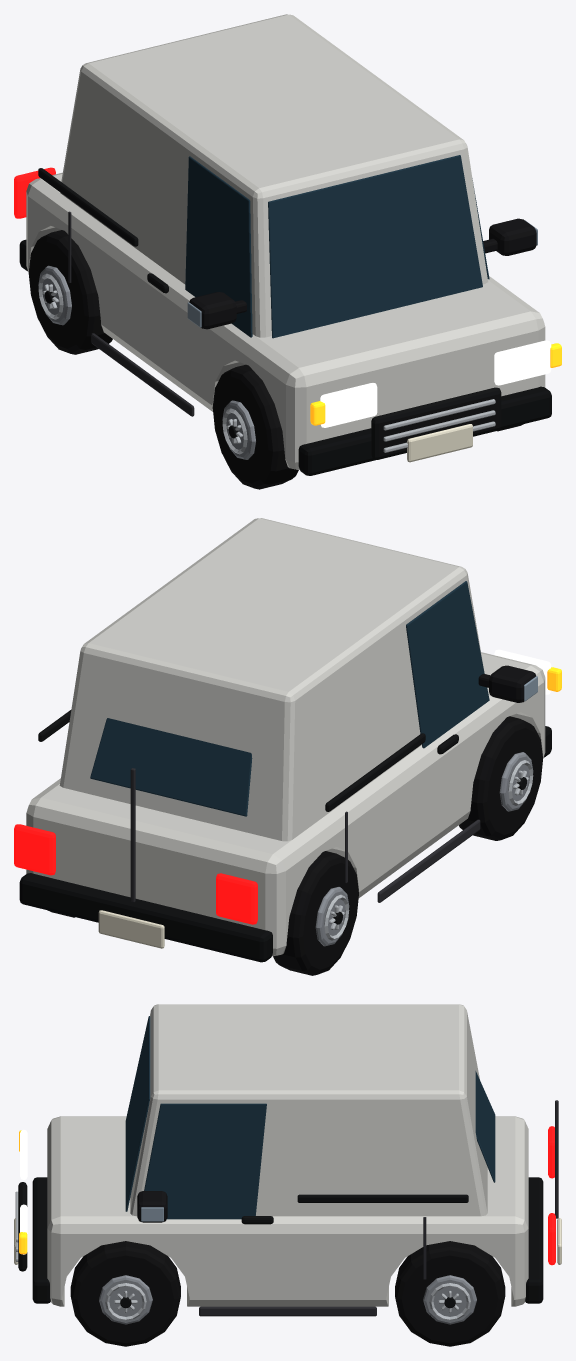
Rendered from van.glb.
3 views of the same model, one above another, from view 1: azimuth 30°, elevation 25°; view 2: azimuth 150°, elevation 25°; view 3: azimuth 270°, elevation 25° (orthographic). The views are drawn at different scales.
Parts seen in each view (by area): view 1: Van_BodyShell, Van_LowerBody, Van_FrontWindshield_R6, Van_SideWindow_L_R6, Van_Wheel_Front_L_R3, Van_Wheel_Rear_L_R3, Van_FrontBumper, V03_Van_FrontGrille, V03_Van_Headlight_R, V03_Van_Headlight_L, V03_Van_Plate_Front, Van_Mirror_Housing_R (+8 smaller); view 2: Van_BodyShell, Van_LowerBody, Van_RearWindow_R5, Van_SideWindow_L_R6, Van_RearBumper, Van_Wheel_Rear_L_R3, Van_Wheel_Front_L_R3, V03_Van_TailLamp_L, V03_Van_TailLamp_R, V03_Van_Plate_Rear, V03_Van_RockerTrim_L, Van_Mirror_Housing_L (+4 smaller); view 3: Van_BodyShell, Van_LowerBody, Van_SideWindow_R_R6, Van_Wheel_Front_R_R3, Van_Wheel_Rear_R_R3, Van_FrontWindshield_R6, Van_FrontBumper, Van_RearBumper, V03_Van_RockerTrim_R, V03_Van_SlidingDoorTrack_R, Van_Wheel_Front_R_R3_Hub, Van_Wheel_Rear_R_R3_Hub (+6 smaller).
Boxes of the visible parts, bbox=[...] form: Van_BodyShell: bbox=[60, 14, 488, 337]; Van_LowerBody: bbox=[26, 172, 545, 469]; Van_FrontWindshield_R6: bbox=[268, 155, 482, 338]; Van_SideWindow_L_R6: bbox=[185, 156, 252, 337]; Van_Wheel_Front_L_R3: bbox=[212, 364, 298, 489]; Van_Wheel_Rear_L_R3: bbox=[28, 230, 112, 354]; Van_FrontBumper: bbox=[298, 386, 551, 475]; V03_Van_FrontGrille: bbox=[371, 387, 501, 459]; V03_Van_Headlight_R: bbox=[494, 340, 551, 385]; V03_Van_Headlight_L: bbox=[320, 383, 377, 427]; V03_Van_Plate_Front: bbox=[407, 424, 472, 462]; Van_Mirror_Housing_R: bbox=[489, 218, 536, 255]; Van_BodyShell: bbox=[59, 518, 484, 841]; Van_LowerBody: bbox=[26, 652, 545, 956]; Van_RearWindow_R5: bbox=[90, 718, 252, 816]; Van_SideWindow_L_R6: bbox=[406, 581, 489, 748]; Van_RearBumper: bbox=[19, 873, 272, 962]; Van_Wheel_Rear_L_R3: bbox=[273, 851, 358, 975]; Van_Wheel_Front_L_R3: bbox=[459, 716, 542, 840]; V03_Van_TailLamp_L: bbox=[216, 873, 257, 924]; V03_Van_TailLamp_R: bbox=[14, 824, 55, 875]; V03_Van_Plate_Rear: bbox=[98, 910, 164, 948]; V03_Van_RockerTrim_L: bbox=[377, 819, 480, 902]; Van_Mirror_Housing_L: bbox=[489, 665, 535, 702]; Van_BodyShell: bbox=[130, 1004, 487, 1216]; Van_LowerBody: bbox=[47, 1116, 528, 1306]; Van_SideWindow_R_R6: bbox=[144, 1103, 266, 1219]; Van_Wheel_Front_R_R3: bbox=[70, 1241, 180, 1346]; Van_Wheel_Rear_R_R3: bbox=[395, 1241, 505, 1346]; Van_FrontWindshield_R6: bbox=[125, 1016, 150, 1211]; Van_FrontBumper: bbox=[32, 1177, 50, 1303]; Van_RearBumper: bbox=[525, 1177, 543, 1303]; V03_Van_RockerTrim_R: bbox=[199, 1306, 376, 1316]; V03_Van_SlidingDoorTrack_R: bbox=[297, 1194, 468, 1202]; Van_Wheel_Front_R_R3_Hub: bbox=[99, 1275, 152, 1324]; Van_Wheel_Rear_R_R3_Hub: bbox=[423, 1275, 476, 1324].
Size of the model in its own units: 1.92 by 1.49 by 3.05.
